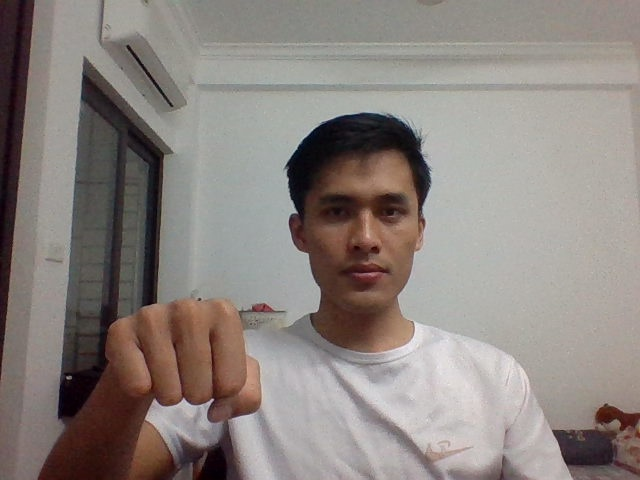Yes: (101, 296, 268, 426)
